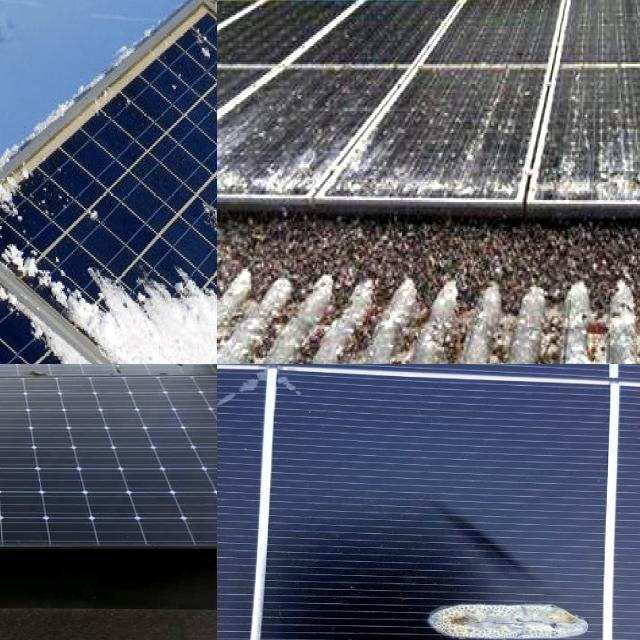bird: (342, 124, 402, 198), (549, 140, 627, 190), (255, 146, 321, 190), (217, 130, 232, 192)
dust: (0, 394, 104, 525), (111, 416, 217, 538), (0, 408, 83, 506)
panel: (114, 198, 217, 364), (0, 298, 147, 364), (0, 259, 127, 326), (166, 235, 217, 357), (0, 170, 45, 242)
shadow: (398, 558, 640, 640)
